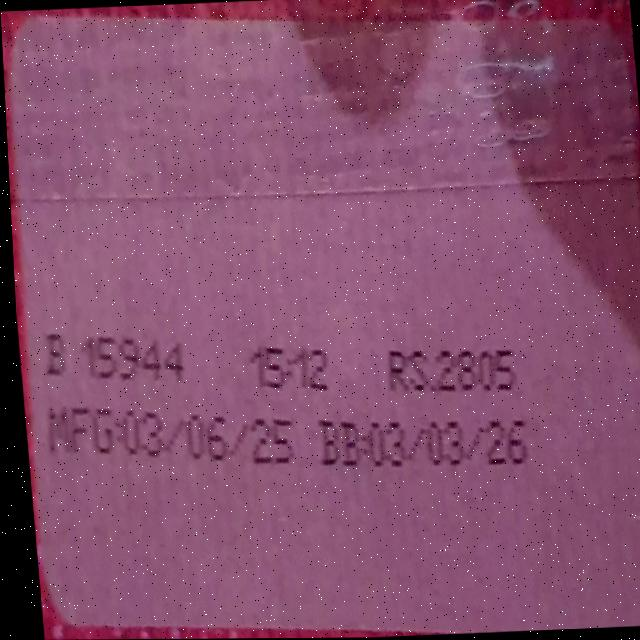BB: (314, 392, 537, 500)
Batch: (40, 293, 201, 402)
MFG: (44, 384, 304, 512)
RS: (382, 325, 522, 414)
TimeStamp: (245, 315, 347, 409)
